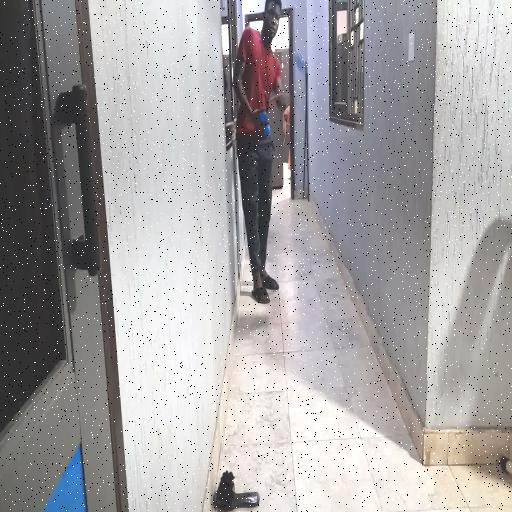plastic-ball: (294, 45, 307, 75)
